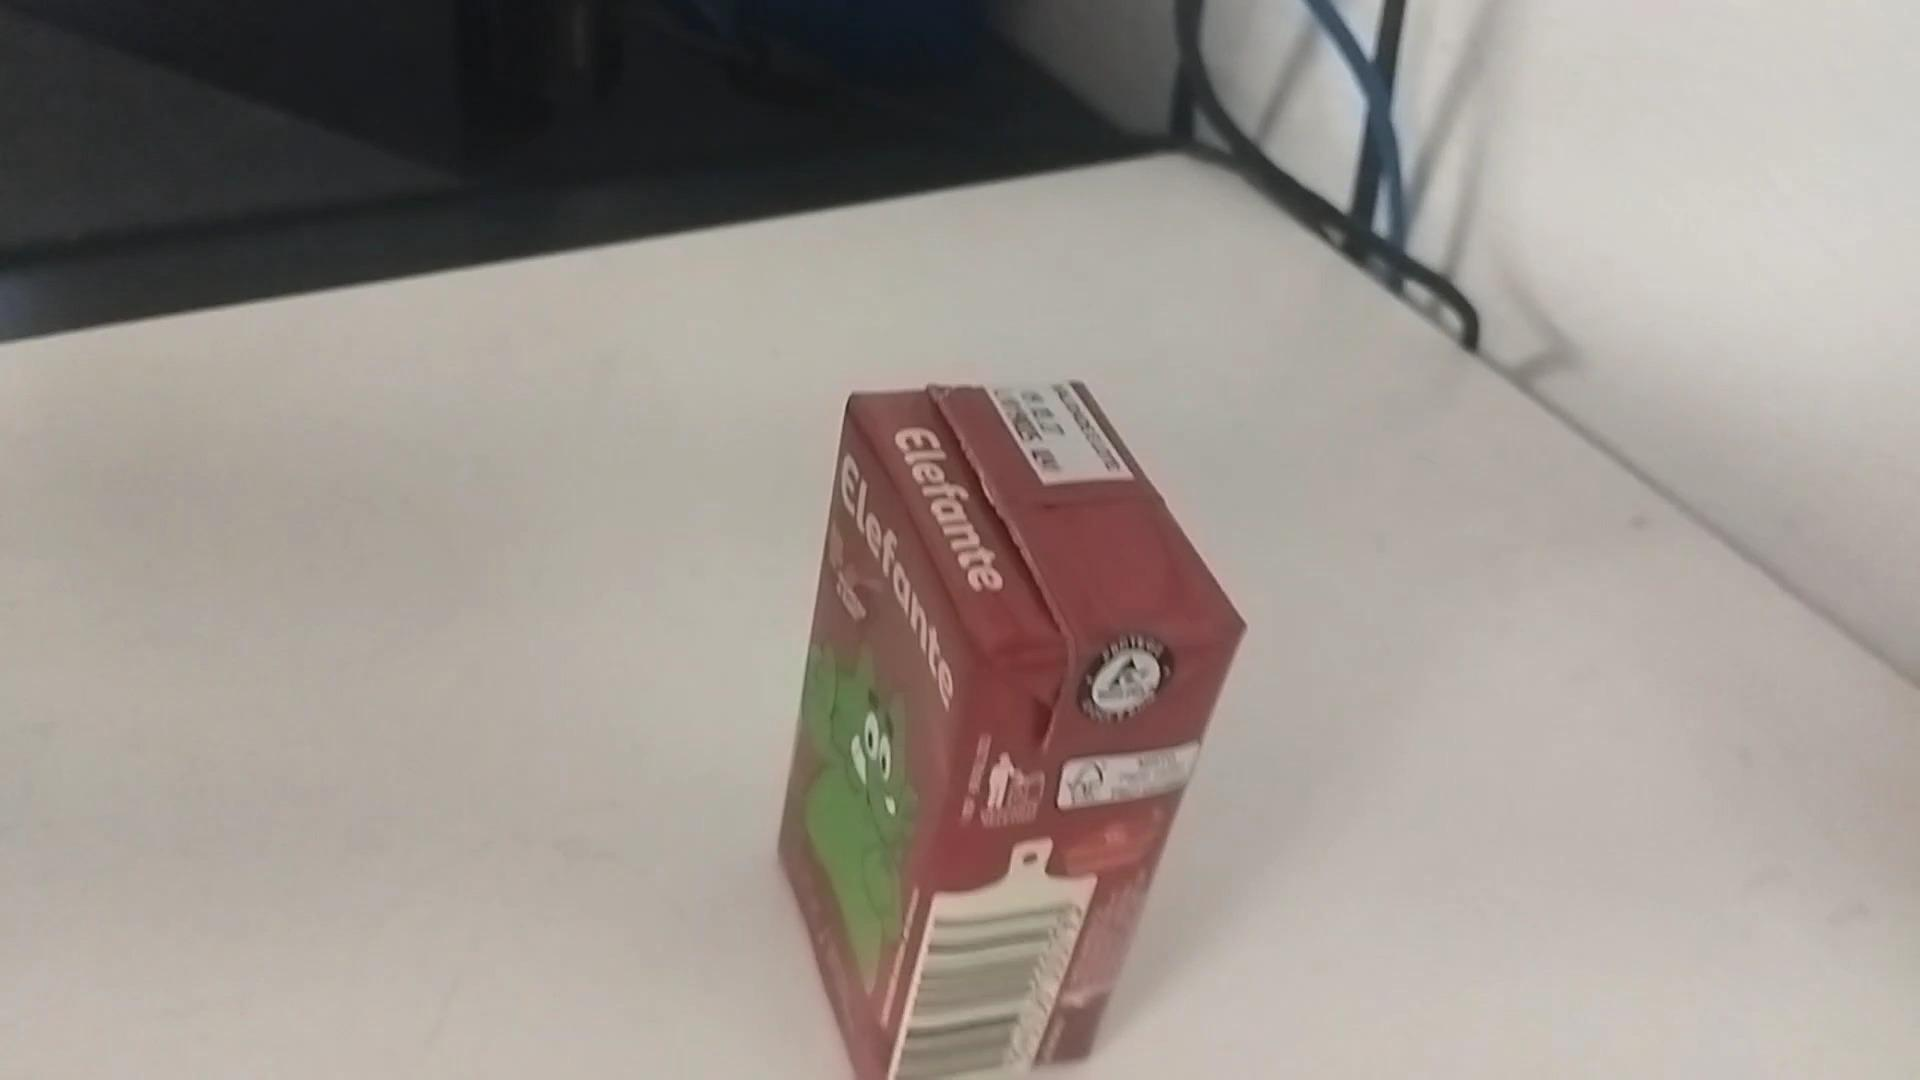tomate: (767, 359, 1259, 1071)
